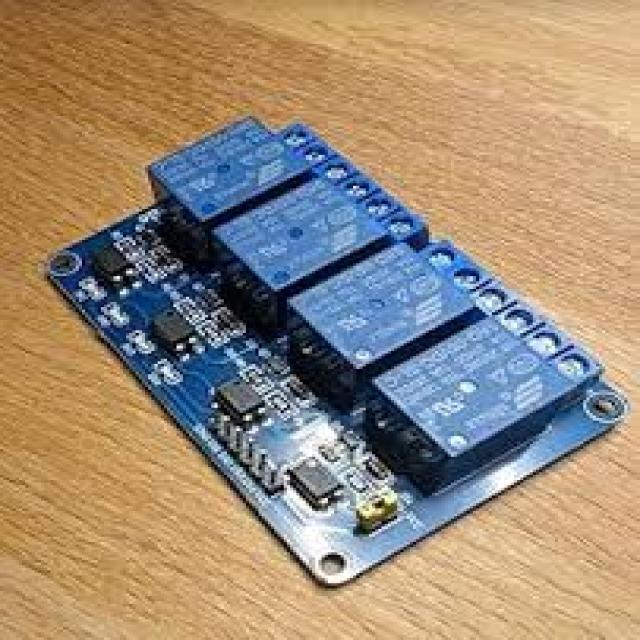Relay: (44, 119, 631, 588)
